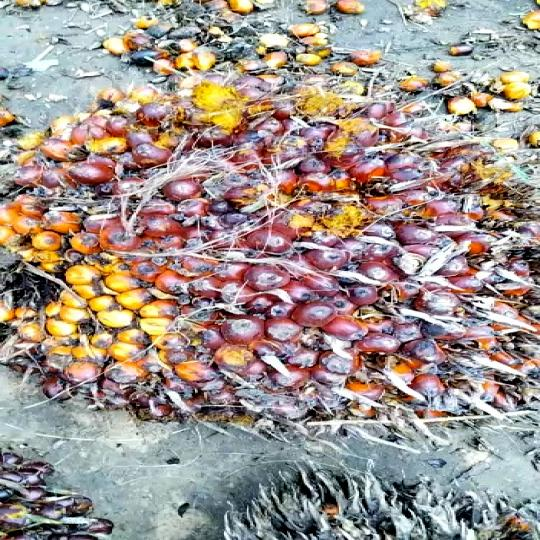masak: (0, 85, 540, 436)
